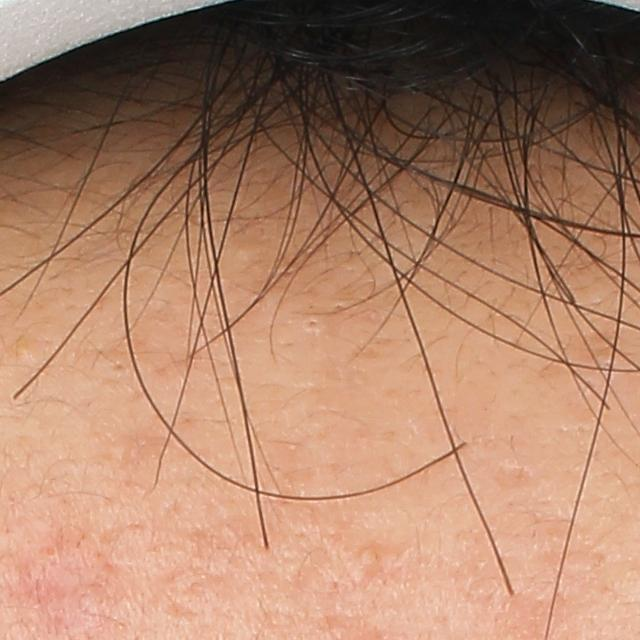comedo: (354, 544, 382, 575), (11, 337, 34, 361), (301, 315, 325, 335), (42, 543, 59, 559)
